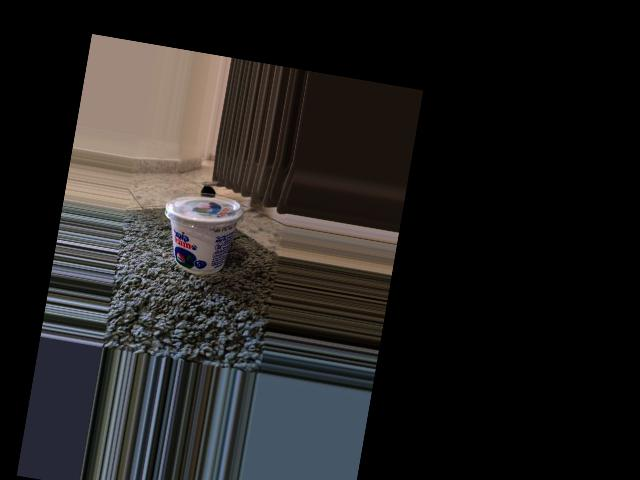cotage: (159, 186, 241, 281)
